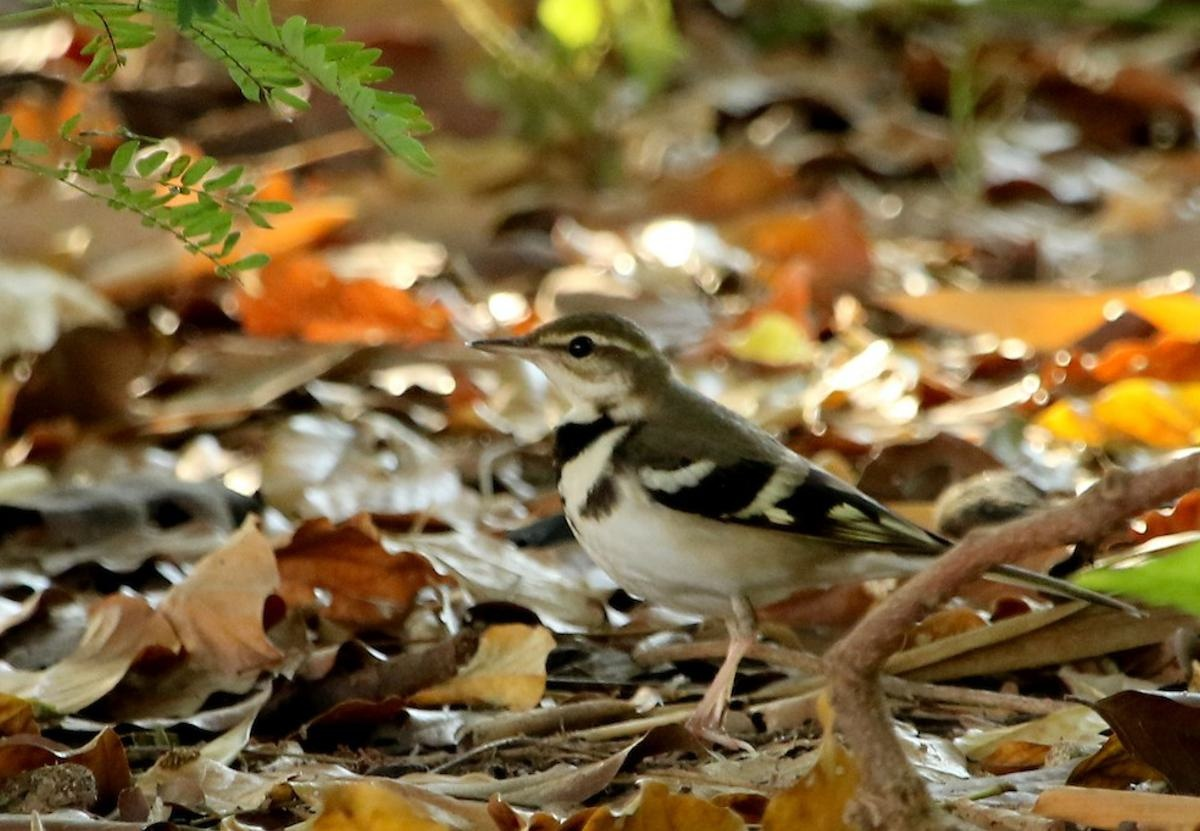wagtail: (485, 307, 999, 682)
